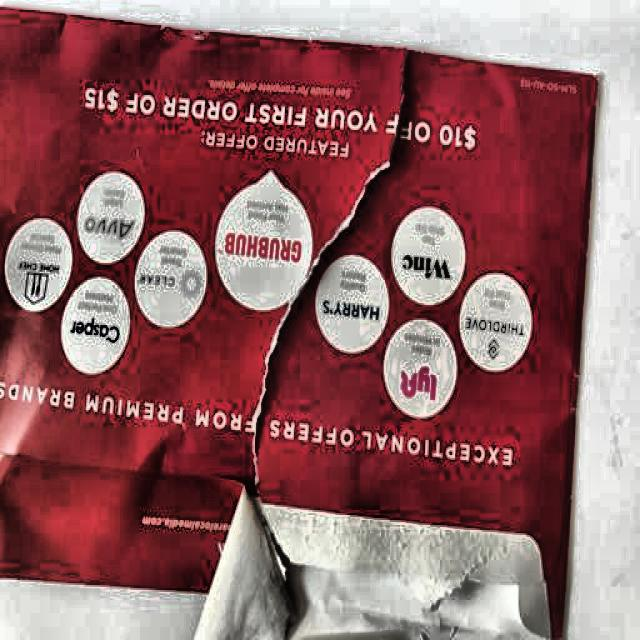paper: (0, 8, 592, 640)
